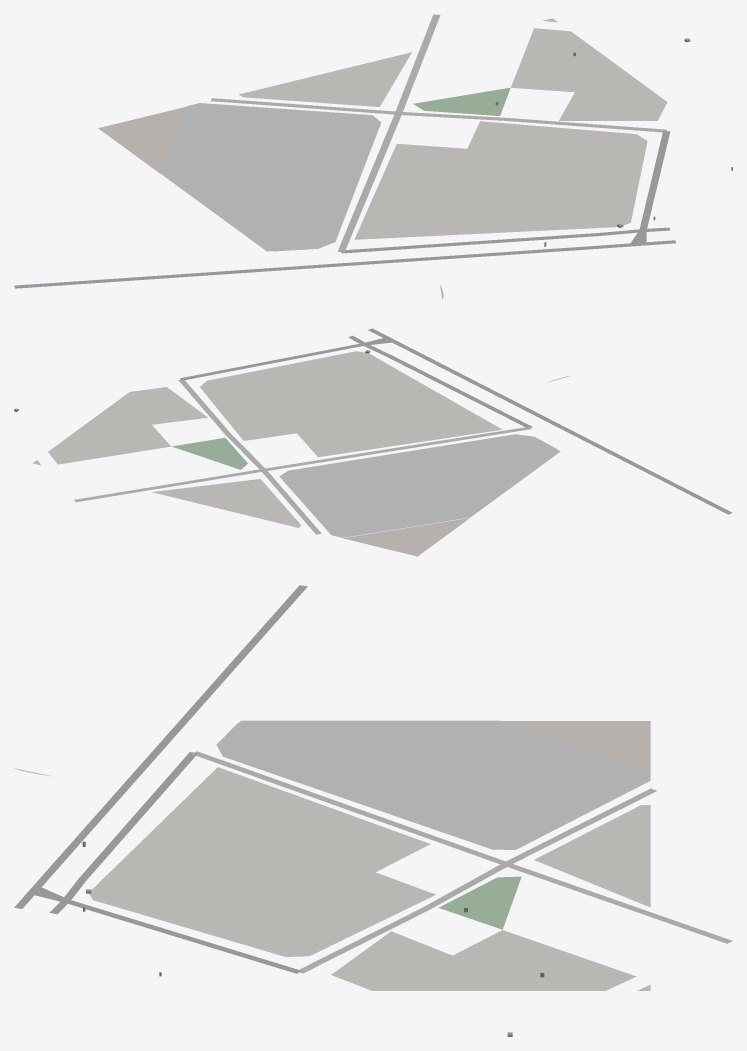
3 renders of one model, top to bottom at view 1: azimuth 30°, elevation 25°; view 2: azimuth 150°, elevation 25°; view 3: azimuth 270°, elevation 25°, orthographic. The views are drawn at different scales.
Bounding box in the file's own units: 837 × 6.36 × 565.
